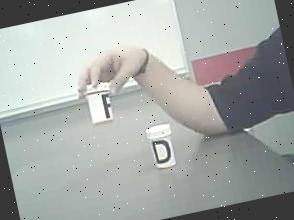Bottle D: (140, 114, 182, 177)
Bottle F: (80, 76, 119, 129)
